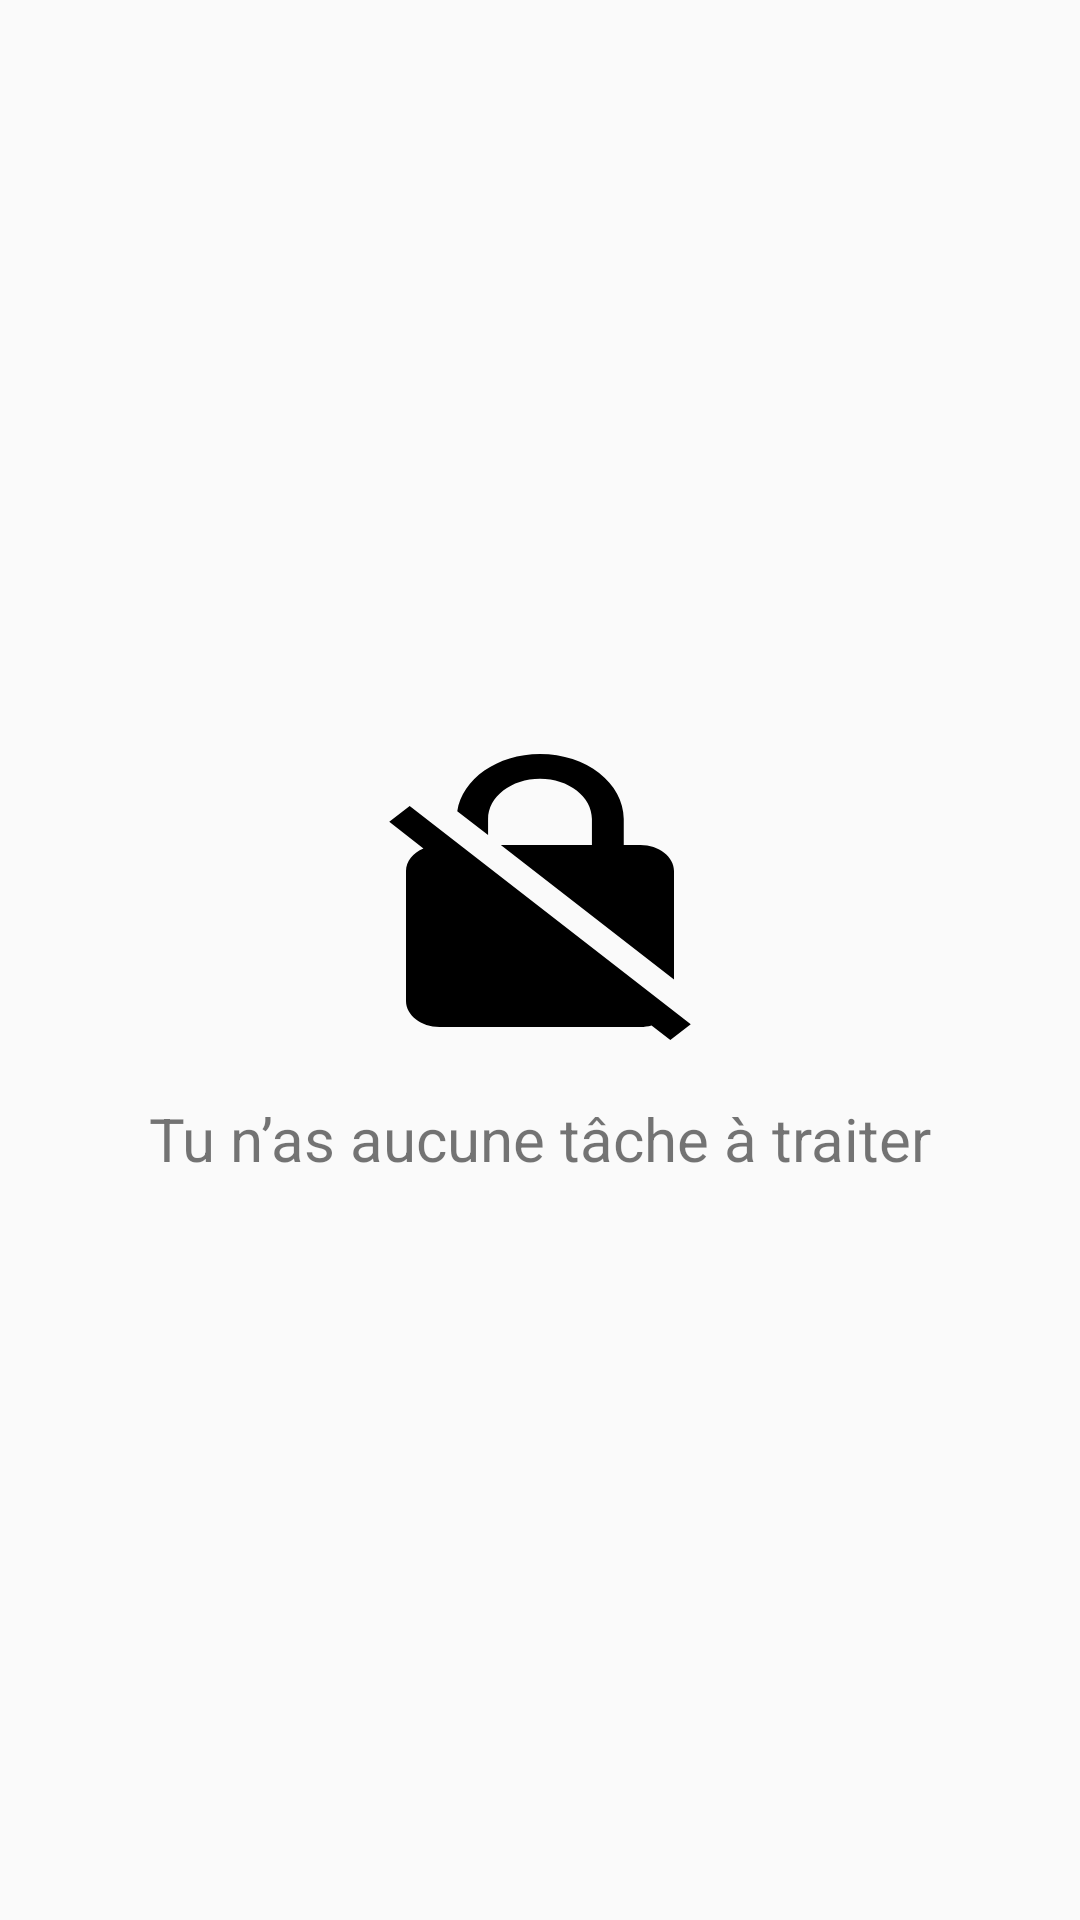

Named icons in this screenshot (1080px x 1920px) and their bounding boxes, Rect(x1, y1, x2, y2):
no encryption: Rect(389, 754, 691, 1040)
